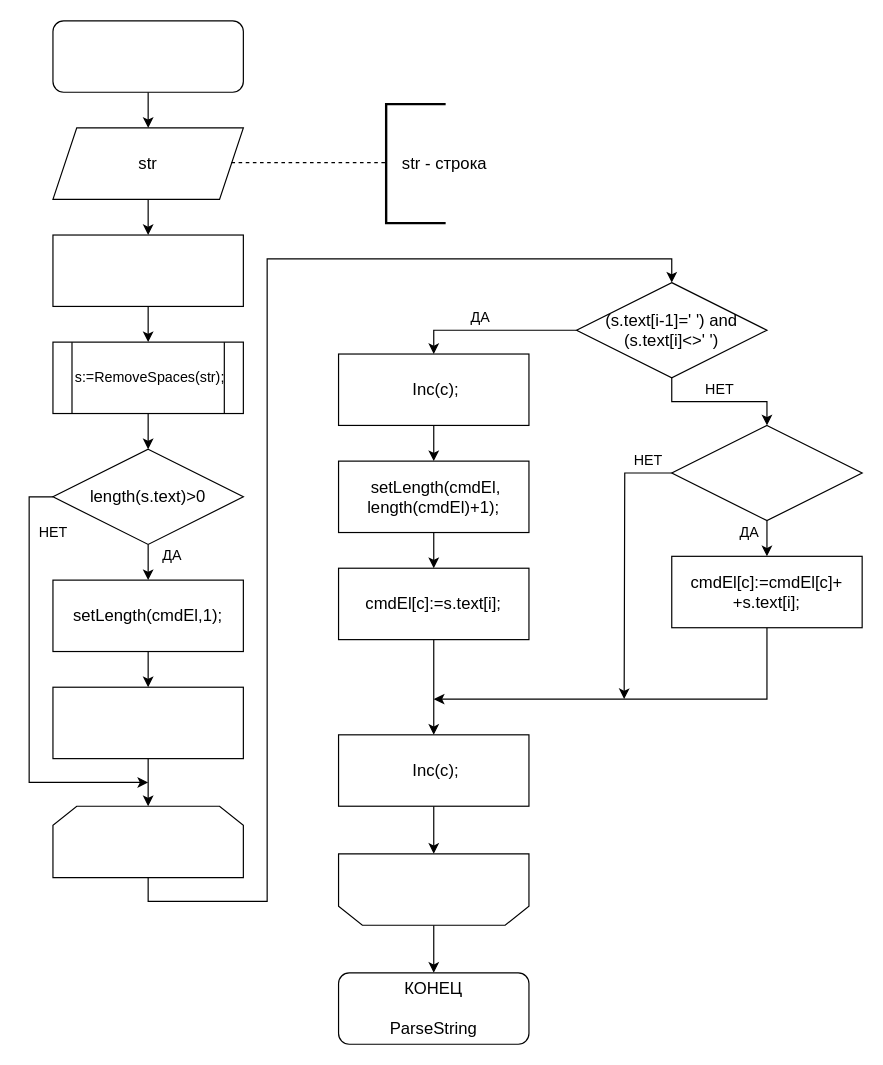
Image size: 883x1065. Some labels were removed from this diagram. The centre of each missing label's shape, as x and y in pixels:
C7: pixel 433 889
C7 i > length(s.text): pixel 147 841
cmdEl[c]:=s.text[1];: pixel 147 722
i:=2; c:=0;: pixel 147 270
ParseString НАЧАЛО: pixel 147 56
s.text[i]<>' ': pixel 766 472
